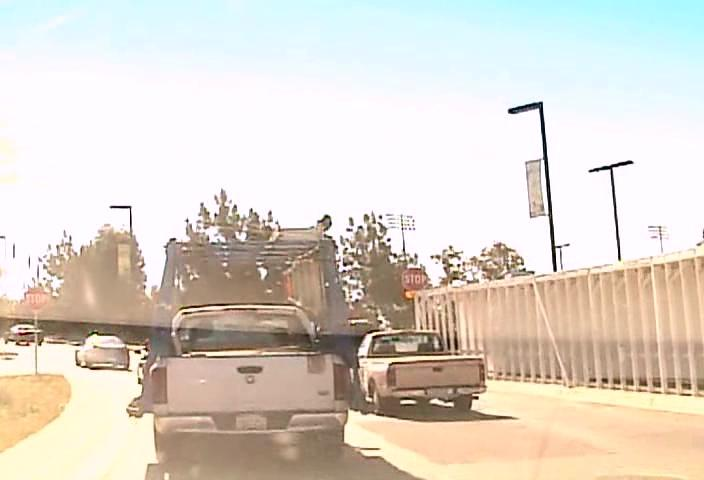stop: (402, 266, 428, 292)
